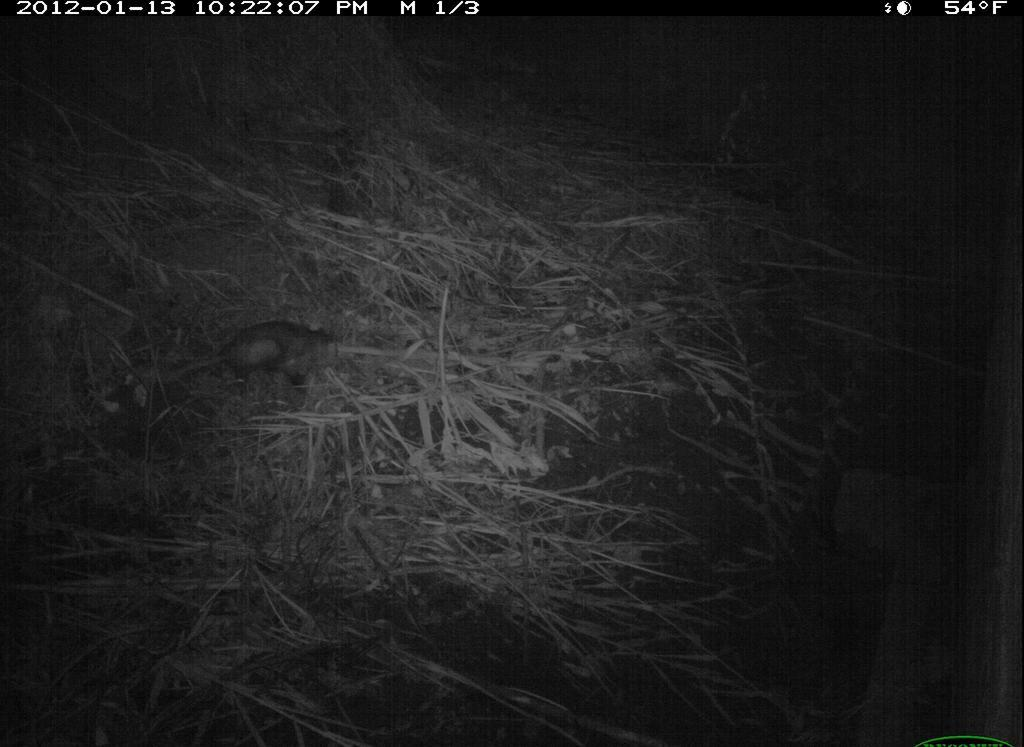opossum: (217, 321, 312, 395)
